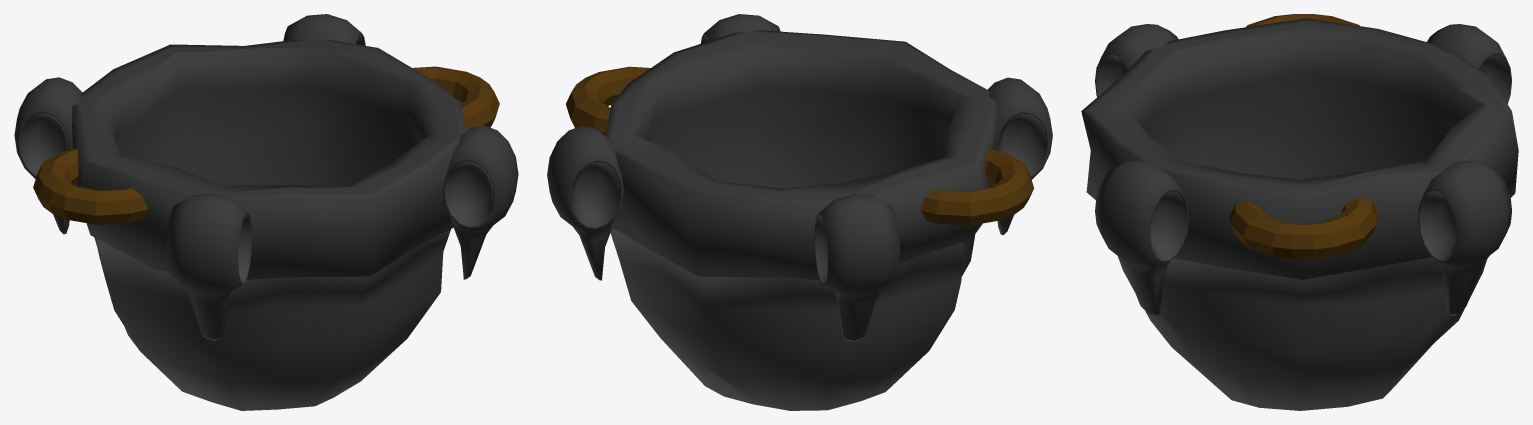
Rendered from Cauldron.glb.
3 views of the same model, side by side, from view 1: azimuth 30°, elevation 25°; view 2: azimuth 150°, elevation 25°; view 3: azimuth 270°, elevation 25° (orthographic). The views are drawn at different scales.
Parts seen in each view (by area): view 1: Cylinder; view 2: Cylinder; view 3: Cylinder.
Boxes of the visible parts, left/top/right/bottom form: Cylinder: left=14, top=14, right=518, bottom=410; Cylinder: left=547, top=14, right=1052, bottom=410; Cylinder: left=1081, top=14, right=1518, bottom=410.
Bounding box in the file's own units: 2.61 × 1.48 × 2.13.
